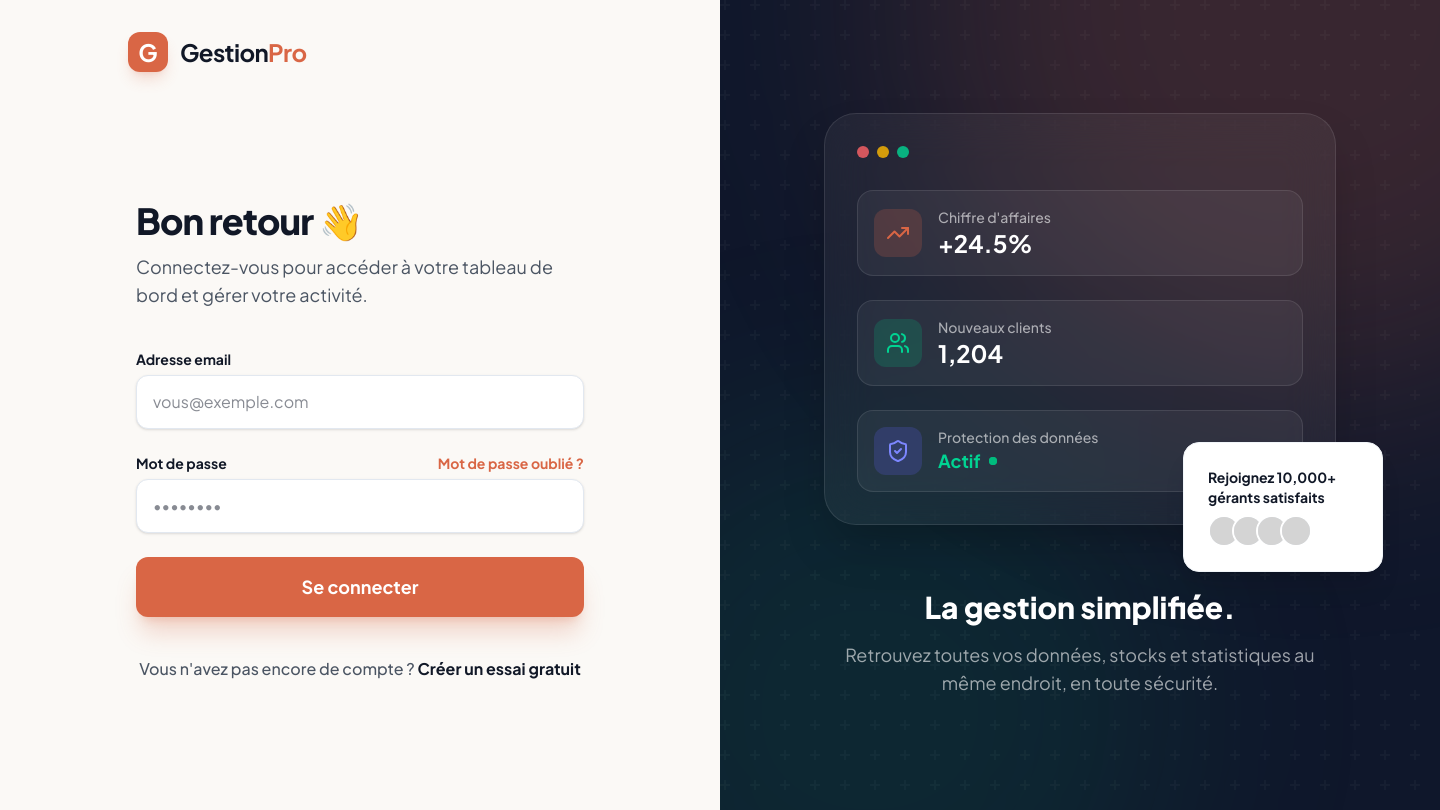
Test case: Login › shows an error message with the server-reported remaining attempts on wrong credentials
This screenshot has width=1440, height=810.
In the field with placeholder "vous@exemple.com": x=360, y=402 [136,375,584,429], type "owner@test.com"
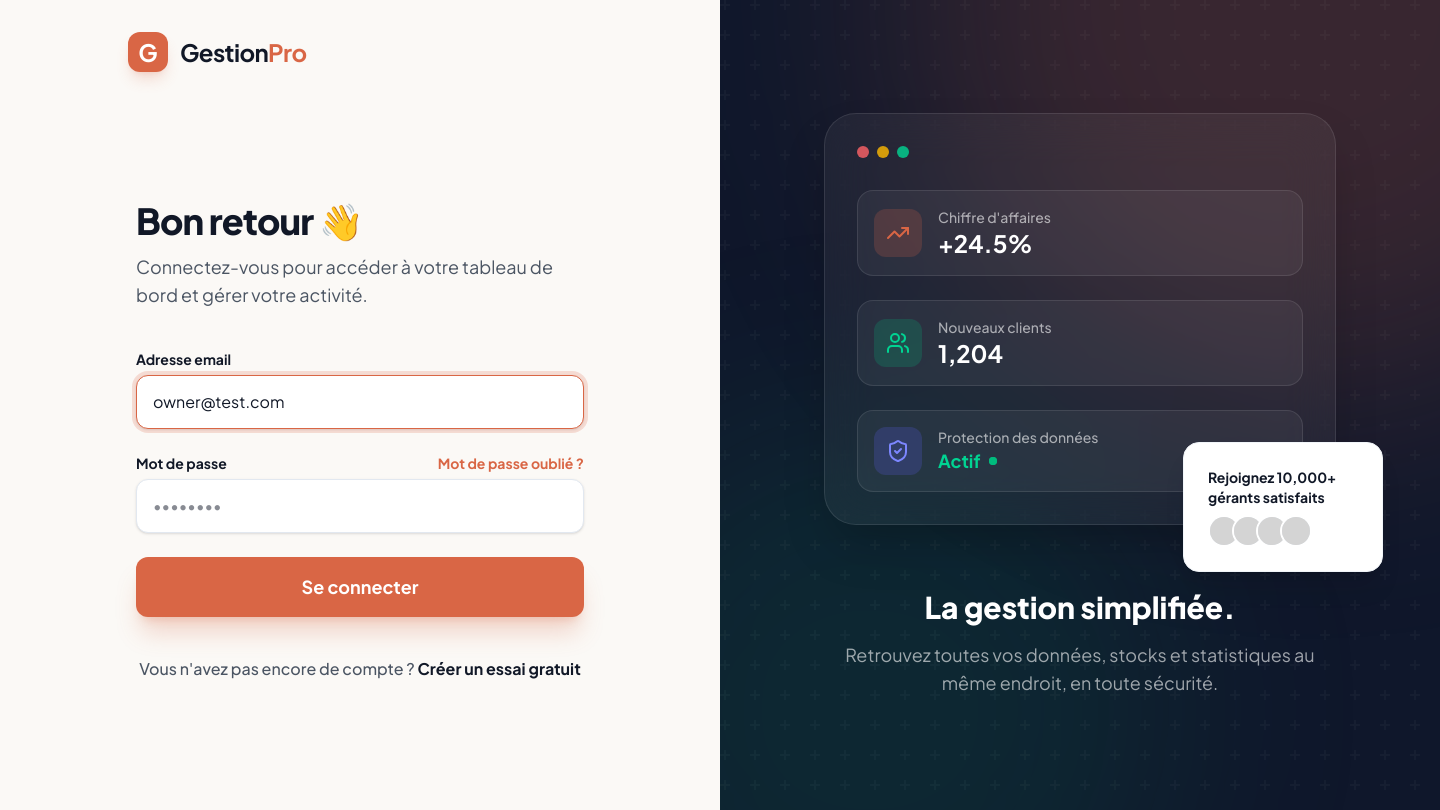
In the password field with placeholder "••••••••": x=360, y=506 [136,479,584,533], type "password123"
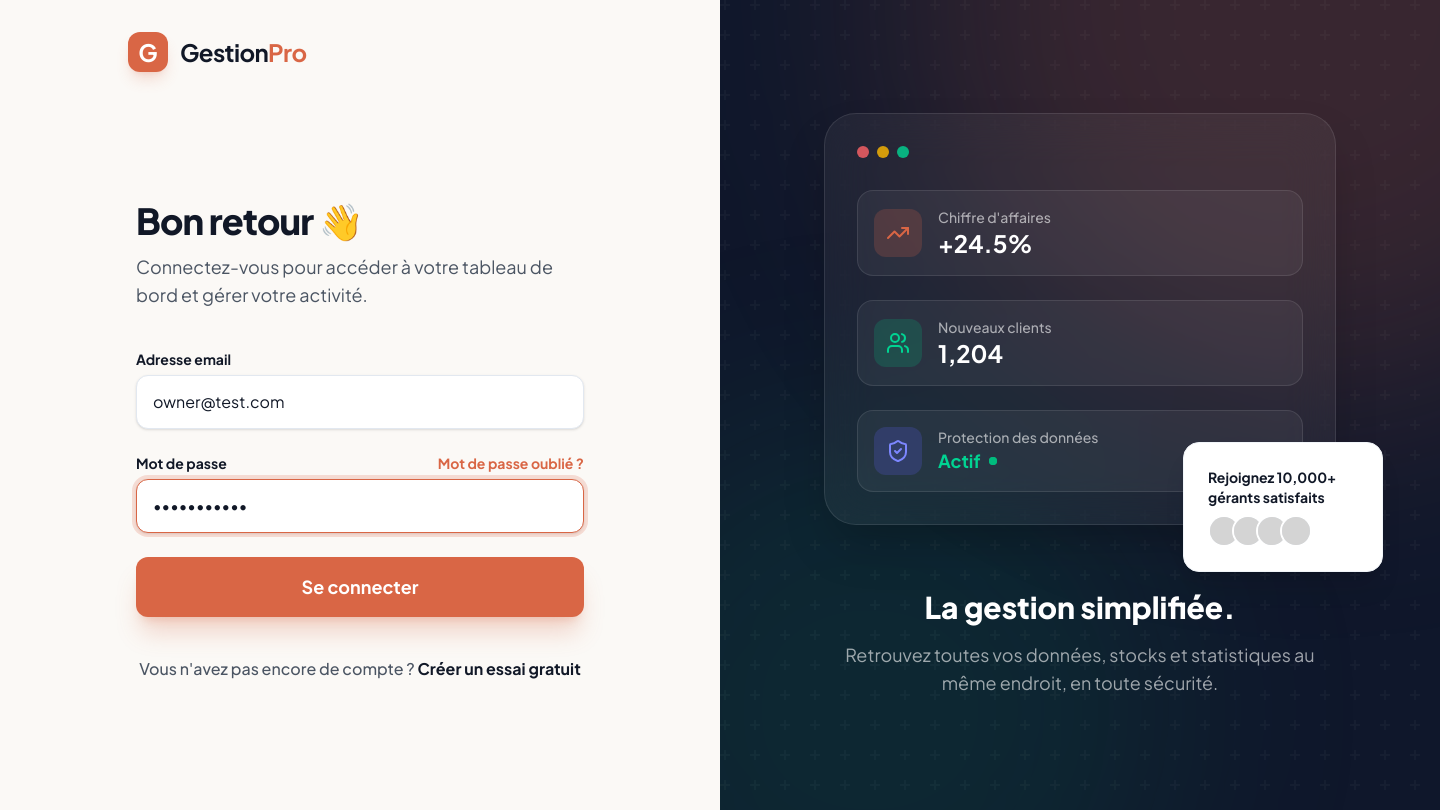
Click the button "Se connecter": x=360, y=587 [136,557,584,617]
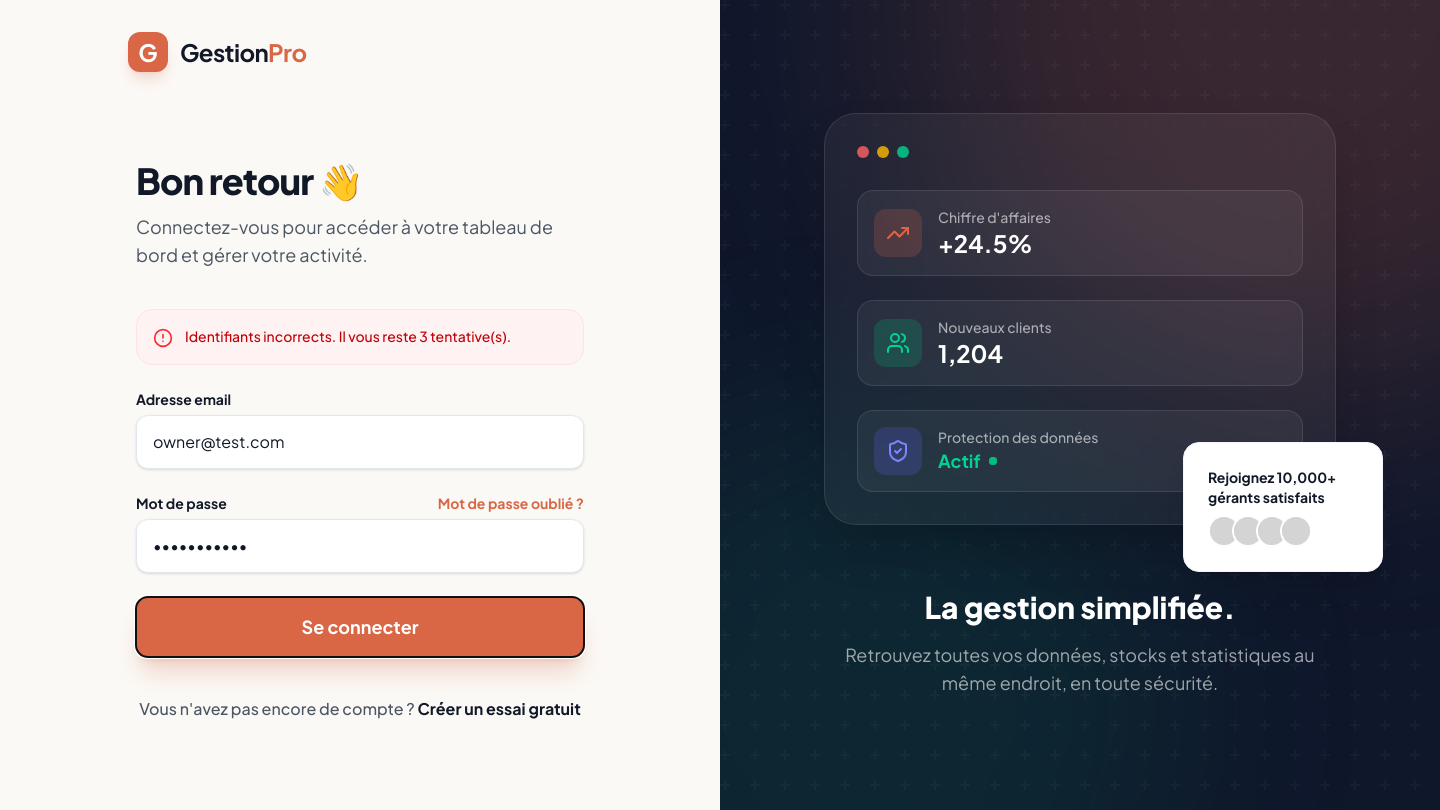
Expected: the text "Identifiants incorrects. Il vous reste 3 tentative(s)." is shown, [185,326,511,346]
